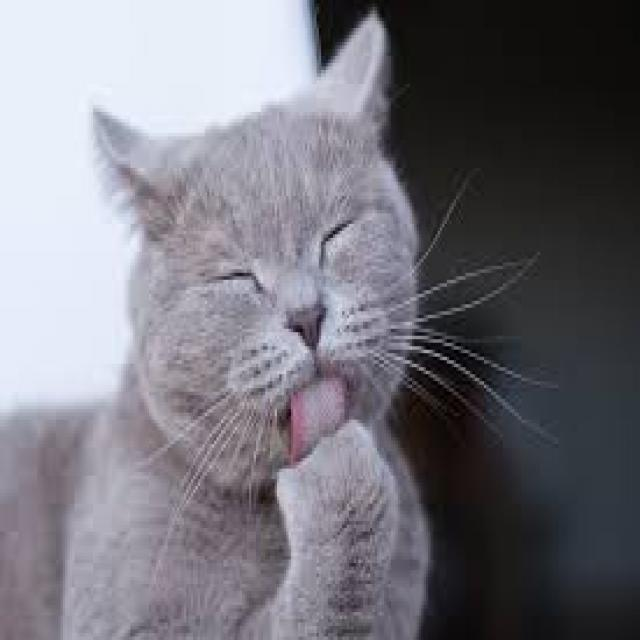Cat: (0, 3, 433, 640)
